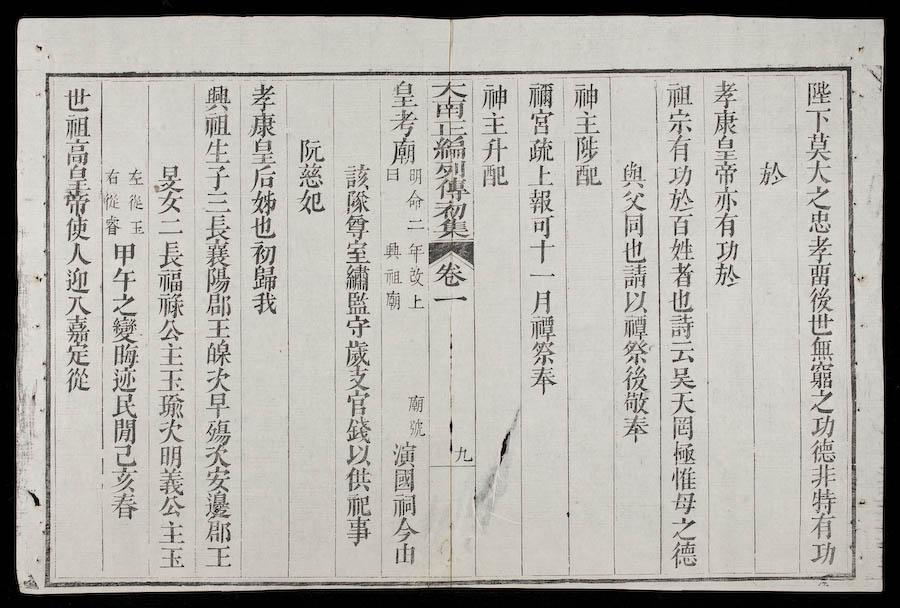c: (432, 261, 468, 289), (247, 81, 279, 111), (619, 414, 652, 443), (430, 137, 468, 162), (710, 79, 741, 109), (154, 162, 185, 192), (388, 79, 419, 109), (525, 81, 556, 111), (387, 109, 419, 138), (479, 82, 511, 111), (662, 80, 694, 109), (802, 79, 835, 107), (108, 492, 141, 520), (668, 540, 701, 568), (59, 186, 92, 214), (62, 315, 93, 344), (756, 158, 787, 187), (527, 366, 559, 394), (201, 490, 233, 518), (247, 138, 279, 166), (342, 517, 374, 545), (806, 361, 838, 389), (803, 132, 835, 160), (201, 213, 233, 241), (570, 82, 602, 110), (341, 162, 373, 190), (60, 84, 93, 111), (433, 177, 470, 201), (618, 160, 648, 189), (156, 239, 186, 268), (202, 83, 233, 111), (295, 135, 326, 163), (156, 467, 187, 495), (804, 234, 835, 262), (342, 339, 373, 367), (61, 112, 93, 139), (61, 138, 93, 165), (202, 339, 234, 366), (664, 135, 694, 163), (389, 440, 420, 467), (202, 391, 233, 418), (807, 512, 838, 539), (525, 138, 556, 165), (109, 316, 140, 343), (430, 97, 468, 119), (155, 392, 187, 418), (294, 189, 326, 215), (807, 437, 839, 463), (807, 487, 839, 513), (478, 138, 510, 164), (247, 112, 279, 138), (154, 293, 187, 318), (710, 109, 740, 136), (62, 266, 92, 293), (202, 240, 232, 267), (388, 138, 418, 165), (201, 164, 232, 190), (201, 112, 232, 138), (61, 215, 92, 241), (201, 138, 232, 164), (666, 313, 697, 339), (62, 367, 93, 393), (202, 418, 233, 444), (710, 186, 741, 212), (109, 366, 140, 392), (343, 466, 374, 492), (343, 417, 374, 443), (620, 365, 651, 391), (620, 339, 651, 365), (156, 519, 187, 545), (665, 187, 696, 213), (664, 109, 695, 135), (155, 367, 187, 392), (202, 518, 234, 543), (202, 544, 234, 569), (666, 339, 698, 364), (201, 466, 233, 491), (807, 540, 839, 565), (60, 165, 92, 190), (435, 218, 471, 240), (572, 136, 600, 164), (667, 261, 696, 288), (343, 264, 372, 291), (295, 163, 325, 189), (156, 418, 186, 444), (805, 286, 835, 312), (620, 314, 650, 340), (710, 136, 740, 162), (526, 189, 556, 215), (807, 336, 837, 362), (432, 200, 471, 220), (202, 267, 232, 293), (203, 366, 233, 392), (109, 266, 139, 292), (527, 341, 558, 366), (803, 185, 834, 210), (668, 465, 699, 490), (389, 517, 420, 542), (156, 545, 187, 570), (806, 389, 837, 414), (668, 515, 699, 540), (155, 268, 186, 293), (479, 164, 510, 189), (807, 463, 839, 487), (527, 110, 555, 137), (528, 287, 556, 314), (528, 315, 557, 341), (110, 392, 139, 418), (343, 390, 372, 416), (620, 264, 649, 290), (572, 164, 602, 189), (342, 214, 372, 239), (248, 166, 278, 191), (156, 342, 186, 367), (712, 262, 742, 287), (389, 493, 419, 518), (110, 466, 140, 491), (805, 209, 835, 234), (342, 190, 372, 215), (249, 265, 279, 290), (248, 240, 278, 265), (248, 190, 278, 215), (479, 112, 509, 137), (571, 111, 601, 136), (249, 291, 280, 315), (667, 390, 698, 414), (803, 160, 834, 184), (667, 365, 698, 389), (389, 542, 420, 566), (807, 413, 838, 437), (109, 292, 140, 316), (201, 444, 233, 467), (110, 417, 138, 443), (668, 414, 696, 440), (711, 213, 740, 238), (109, 240, 138, 265), (389, 467, 418, 492), (669, 440, 698, 465), (665, 163, 694, 188), (342, 240, 372, 264), (110, 342, 140, 366), (620, 290, 650, 314), (156, 318, 186, 342), (62, 242, 92, 266), (343, 493, 373, 517), (621, 390, 651, 414), (804, 262, 834, 286), (669, 490, 699, 514), (806, 312, 836, 336), (527, 239, 557, 263), (804, 107, 834, 131), (430, 291, 470, 309), (429, 118, 469, 136), (666, 237, 696, 261), (203, 293, 233, 317), (62, 293, 93, 316), (156, 495, 187, 518), (429, 80, 468, 98), (620, 238, 648, 263), (666, 213, 695, 237), (666, 288, 695, 312), (156, 444, 185, 468), (343, 367, 372, 391), (343, 291, 372, 315), (248, 215, 277, 239), (155, 192, 185, 215), (63, 343, 93, 366), (202, 191, 233, 213), (711, 161, 739, 185), (526, 165, 555, 188), (343, 315, 372, 338), (344, 443, 373, 466), (110, 444, 139, 467), (619, 190, 648, 213), (203, 317, 233, 339), (155, 216, 186, 237), (620, 213, 646, 238), (713, 238, 741, 261), (432, 161, 469, 178), (528, 216, 555, 239), (404, 417, 427, 439), (527, 268, 558, 284), (382, 266, 404, 288), (102, 213, 123, 236), (404, 189, 425, 211), (382, 240, 403, 262), (405, 392, 426, 414), (101, 189, 122, 211), (383, 289, 403, 312), (406, 240, 426, 263), (406, 265, 425, 288), (126, 165, 145, 187), (453, 444, 473, 464), (404, 216, 426, 234), (126, 191, 145, 211), (103, 165, 121, 186), (127, 216, 145, 236), (407, 293, 425, 312), (406, 168, 424, 186), (385, 167, 402, 184)
